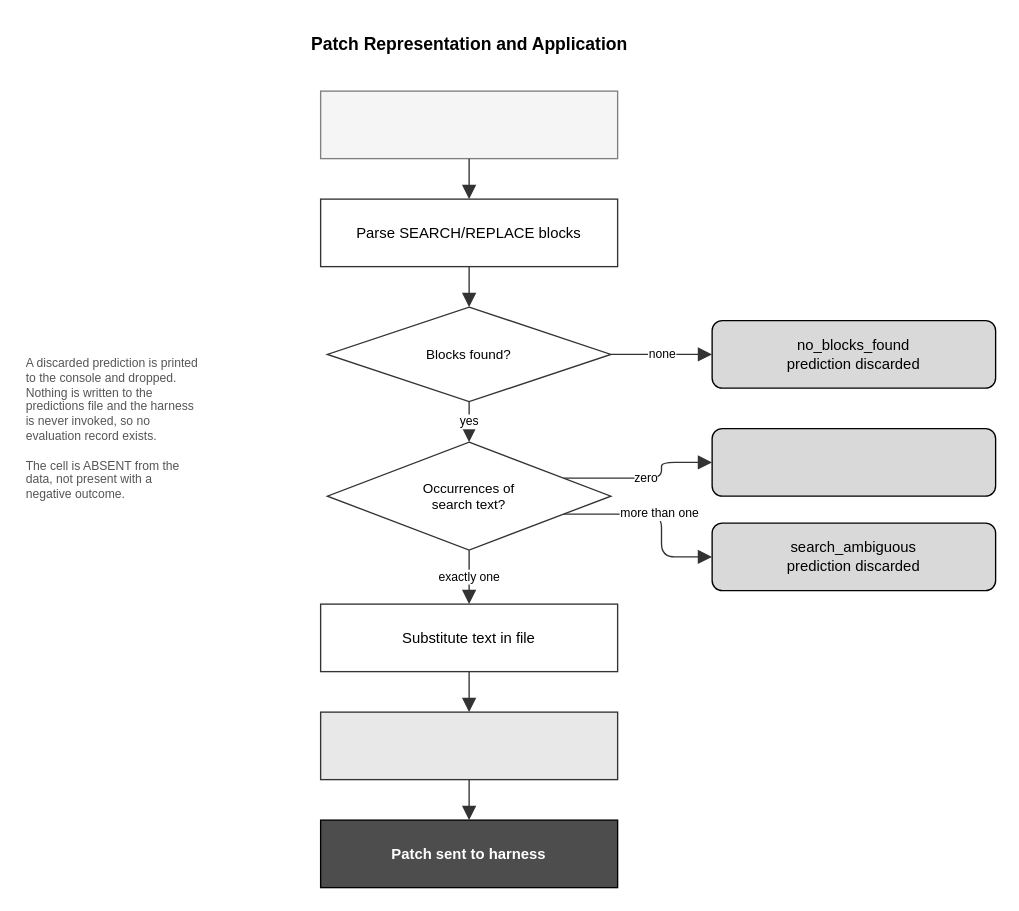
Some shapes in this 1019 by 911 pixel diagram are drawn without their labels. Each missing label, with the box of its shape:
difflib.unified_diff diff computed, not authored: (319, 711, 618, 780)
Model response text: (319, 90, 618, 159)
search_not_found prediction discarded: (711, 427, 996, 496)
